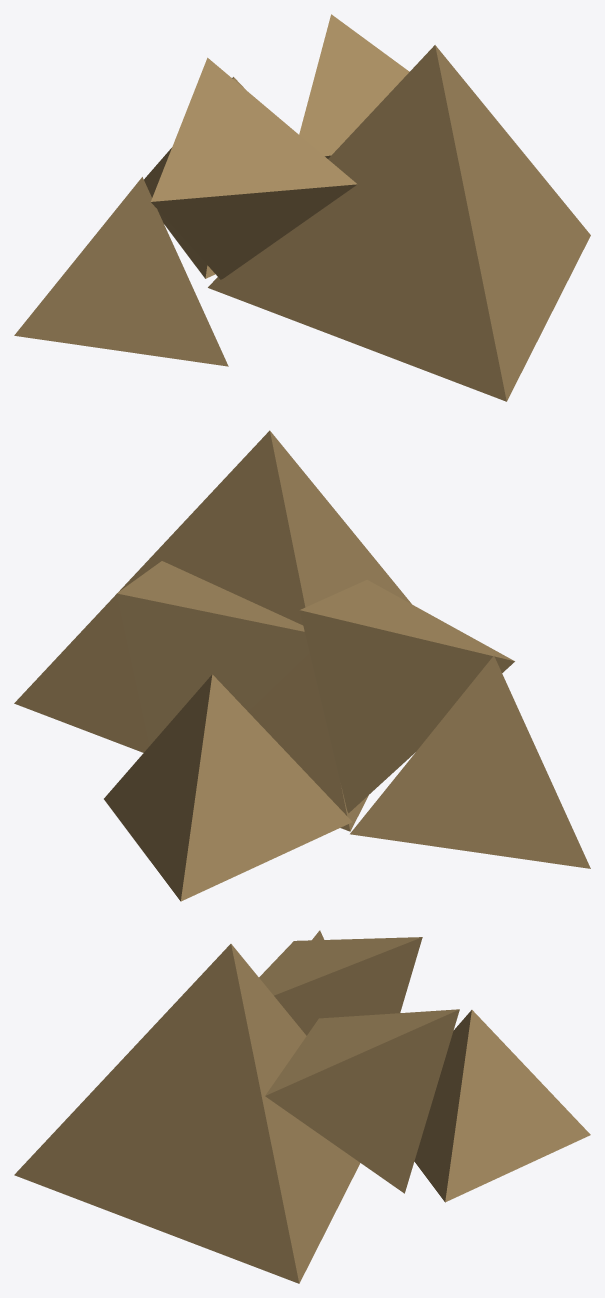
Rendered from pyrit.fbx.
3 renders of one model, top to bottom at view 1: azimuth 30°, elevation 25°; view 2: azimuth 150°, elevation 25°; view 3: azimuth 270°, elevation 25°, orthographic. The views are drawn at different scales.
Parts seen in each view (by area): view 1: pyrite.001, pyrite.003, pyrite, pyrite.004, pyrite.002; view 2: pyrite.001, pyrite.002, pyrite.003, pyrite, pyrite.004; view 3: pyrite.001, pyrite.004, pyrite.002, pyrite.003.
Part boxes in pixels (x1,y1,x2,y2): pyrite.001: [208, 45, 590, 401]; pyrite.003: [151, 57, 357, 279]; pyrite: [14, 177, 228, 366]; pyrite.004: [299, 14, 409, 158]; pyrite.002: [144, 77, 245, 278]; pyrite.001: [14, 430, 411, 831]; pyrite.002: [104, 674, 352, 901]; pyrite.003: [299, 580, 514, 813]; pyrite: [350, 656, 590, 868]; pyrite.004: [116, 561, 309, 745]; pyrite.001: [14, 944, 360, 1283]; pyrite.004: [265, 1009, 459, 1193]; pyrite.002: [414, 1010, 590, 1202]; pyrite.003: [259, 937, 422, 1035].
Bounding box in the file's own units: 19.23 × 8.88 × 18.48.
